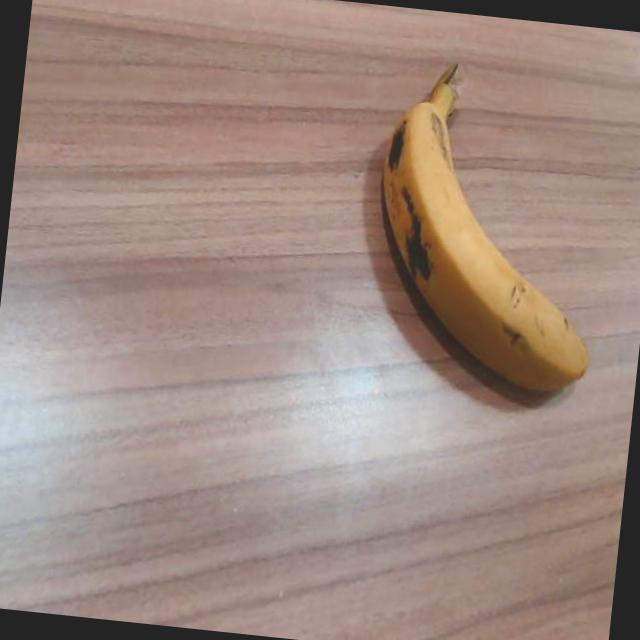Overripe: (342, 50, 624, 413)
